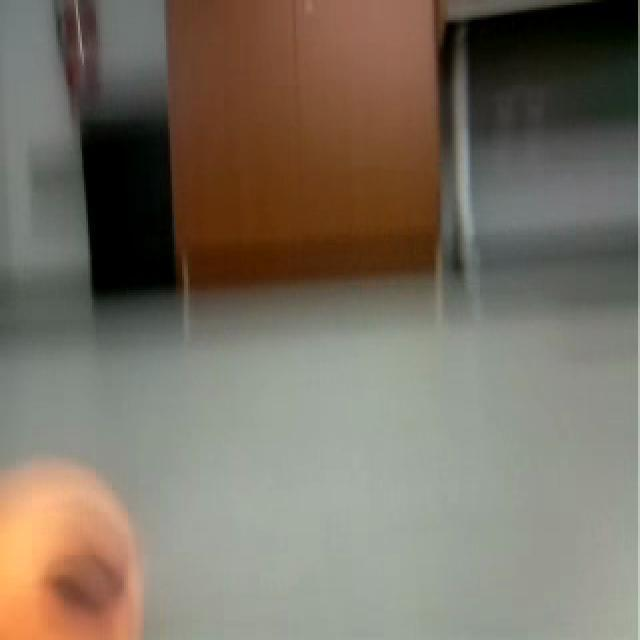oball: (2, 465, 148, 640)
